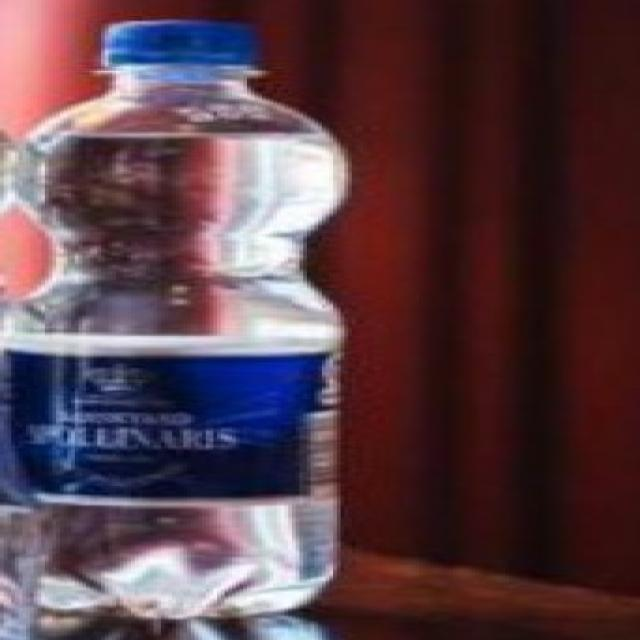high: (4, 20, 344, 616)
